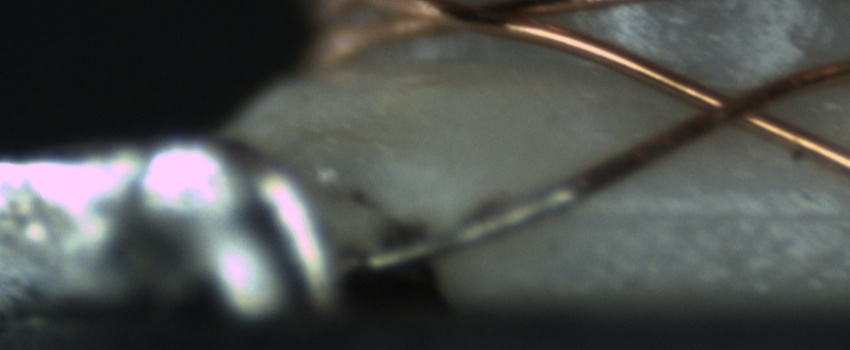CL: (677, 68, 784, 139)
DL: (560, 179, 850, 243)
TS: (356, 182, 575, 275)
